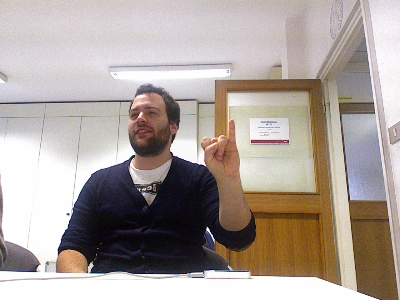小指: (199, 118, 241, 179)
